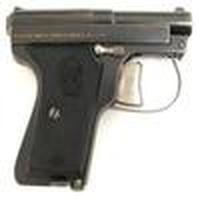gun: (4, 5, 185, 190)
